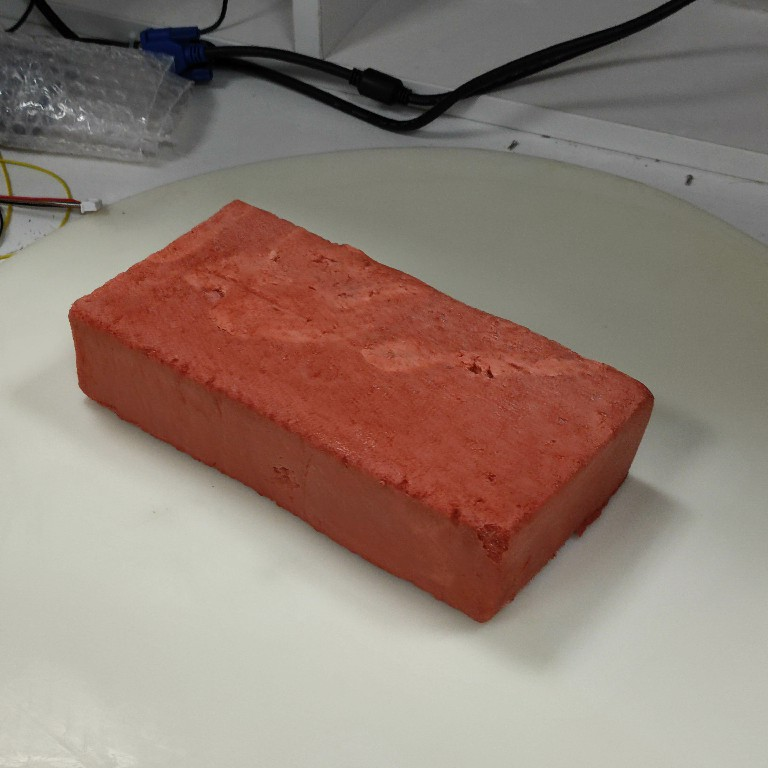brick: (63, 195, 660, 635)
